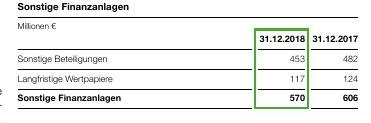table: (0, 0, 371, 123)
